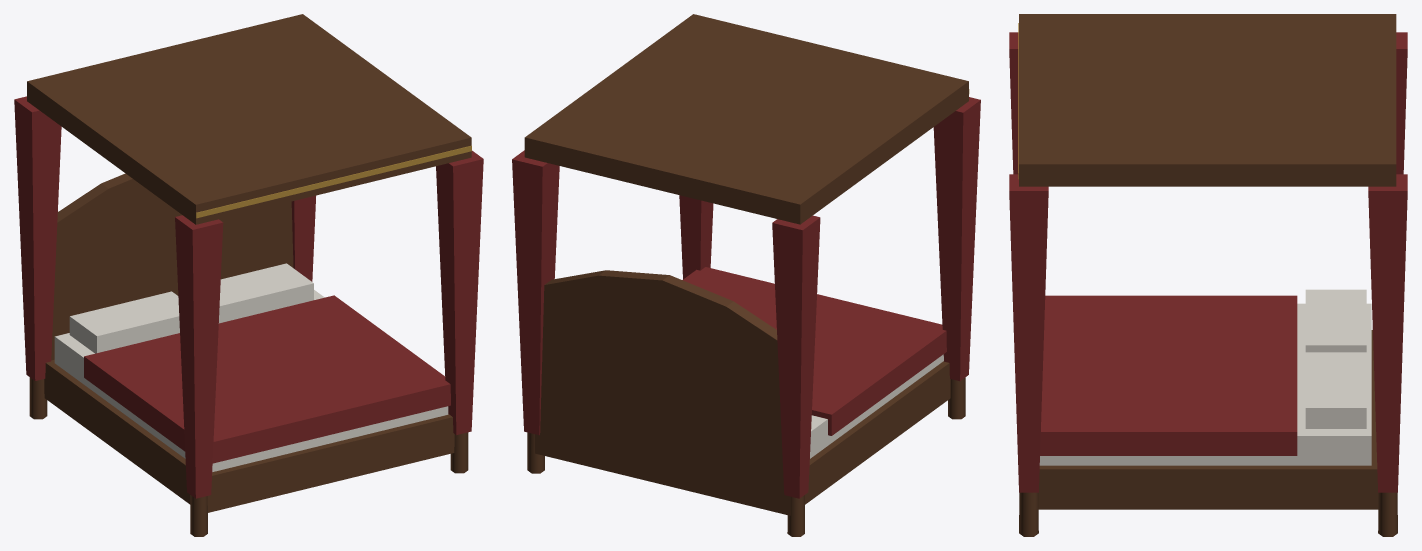
Rendered from four_poster_bed.glb.
3 views of the same model, side by side, from view 1: azimuth 30°, elevation 25°; view 2: azimuth 150°, elevation 25°; view 3: azimuth 270°, elevation 25° (orthographic). The views are drawn at different scales.
Parts seen in each view (by area): view 1: four_poster_bed; view 2: four_poster_bed; view 3: four_poster_bed.
Part boxes in pixels (left/top/right/bottom): four_poster_bed: left=14, top=14, right=483, bottom=536; four_poster_bed: left=512, top=14, right=980, bottom=536; four_poster_bed: left=1009, top=14, right=1407, bottom=536.
Bounding box in the file's own units: 2.28 × 2.5 × 2.42.
Materials: 1 (1 with a texture image).
